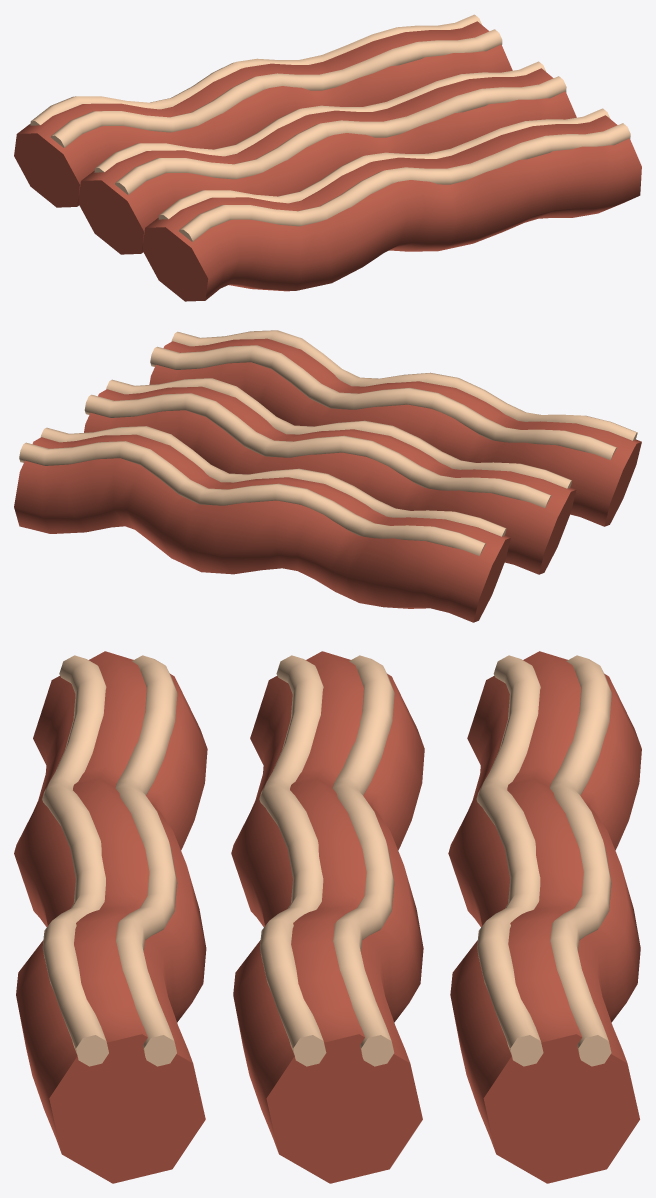
File: item_bacon.glb
3 views of the same model, one above another, from view 1: azimuth 30°, elevation 25°; view 2: azimuth 150°, elevation 25°; view 3: azimuth 270°, elevation 25° (orthographic). The views are drawn at different scales.
Visible parts, largest first — view 1: 波打つベーコン; view 2: 波打つベーコン; view 3: 波打つベーコン.
Boxes of the visible parts, x1,y1,x2,y2 form: 波打つベーコン: [14, 14, 641, 301]; 波打つベーコン: [14, 330, 641, 622]; 波打つベーコン: [14, 651, 641, 1183].
Bounding box in the file's own units: 0.9643 × 0.2059 × 0.665.
